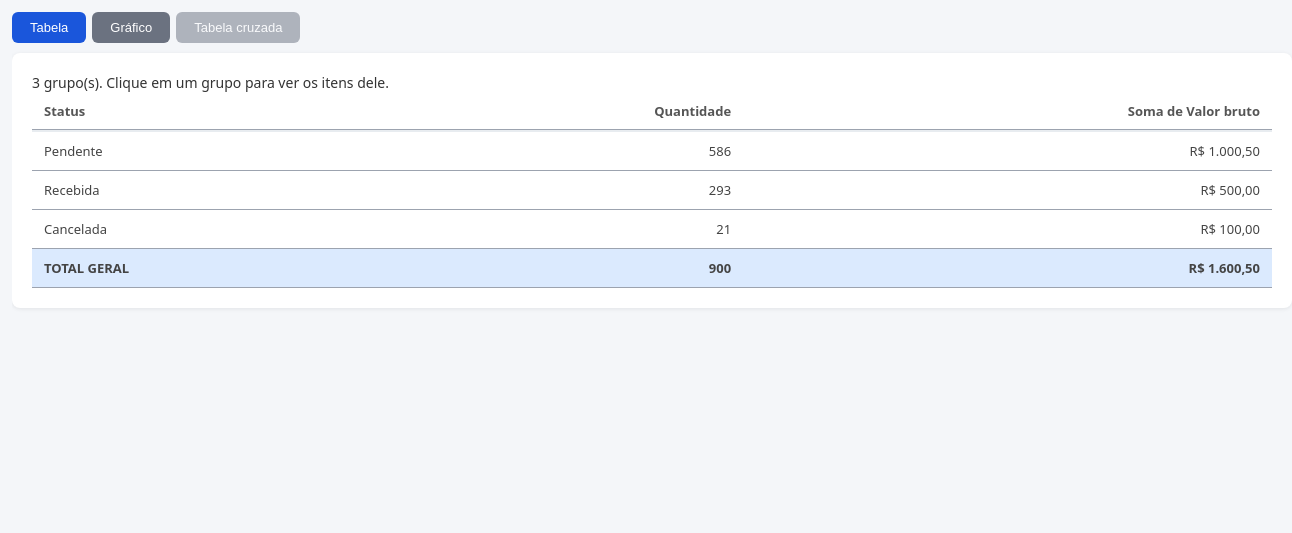
Resultado agrupado — três visões › abre na tabela; troca para o gráfico e guarda a escolha como preferência
The width and height of the screenshot is (1292, 533).
Expected: the text "TOTAL GERAL" is shown, [44,259,129,277]
Click the button "Gráfico" at (131, 28), box [92,12,170,43]
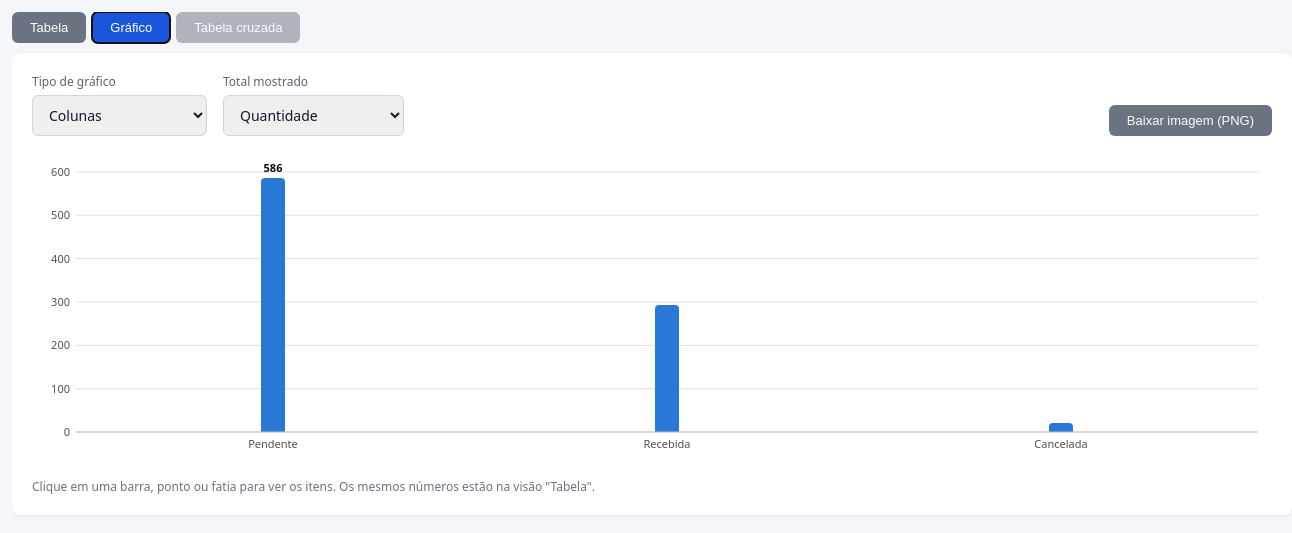
Expected: the button "Gráfico" is pressed, [92,12,170,43]
